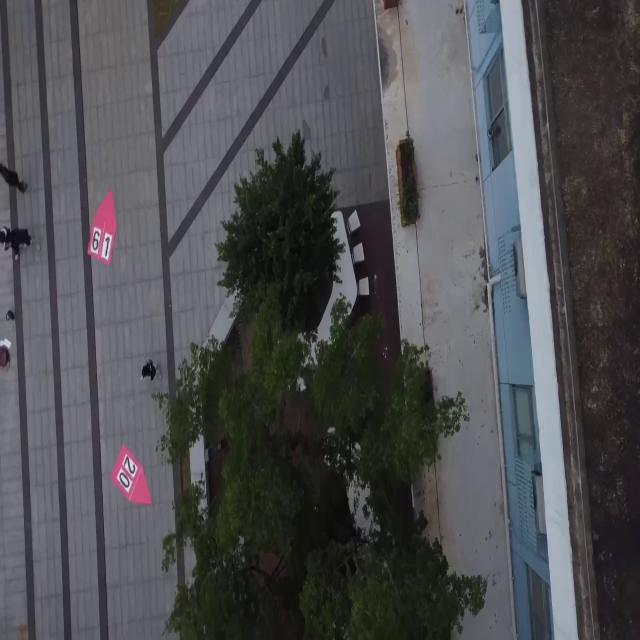-sign-: (110, 442, 152, 506), (87, 188, 117, 266)
